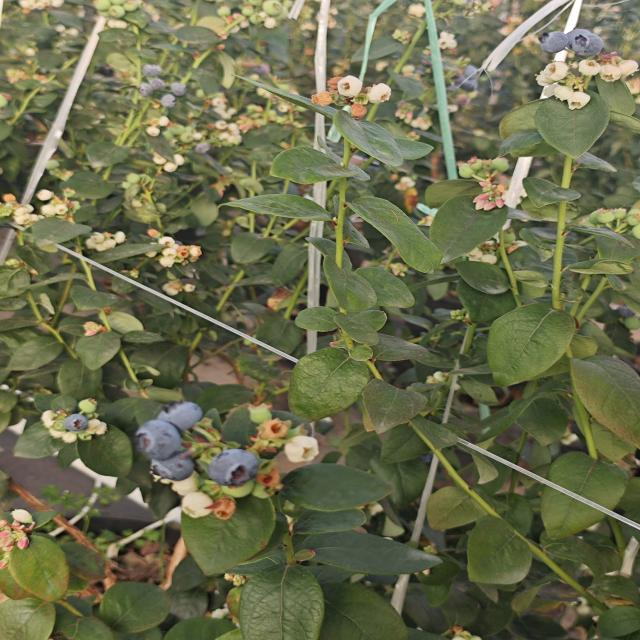ripe: (204, 447, 262, 490), (535, 27, 607, 61), (132, 418, 185, 463), (153, 396, 209, 436), (145, 448, 206, 484), (132, 62, 183, 103), (452, 58, 484, 94), (60, 412, 91, 436)
